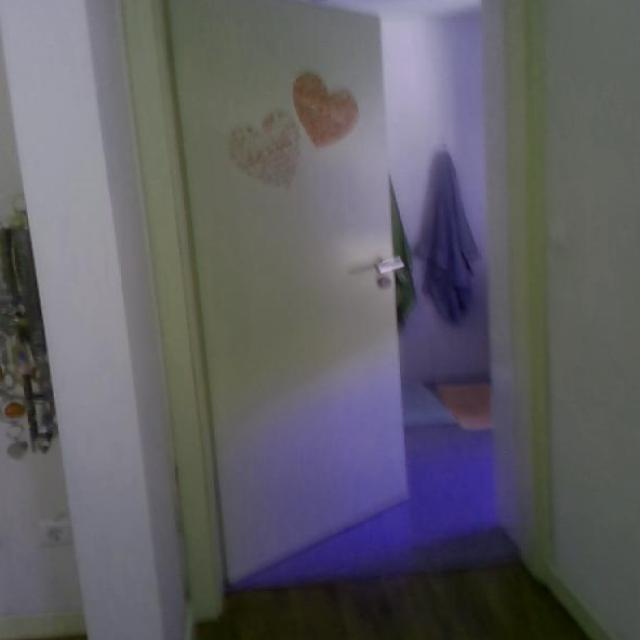door: (160, 0, 412, 586)
